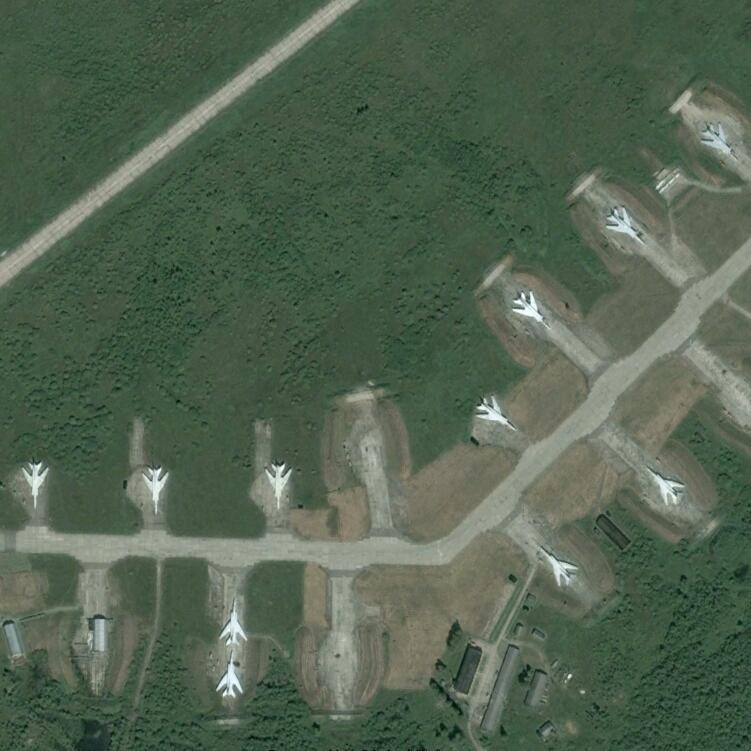A12: (605, 205, 647, 248), (644, 463, 686, 505), (538, 544, 579, 586), (217, 596, 250, 648), (474, 393, 518, 432), (511, 288, 551, 330), (700, 120, 740, 162), (141, 464, 171, 516), (215, 648, 245, 698), (264, 462, 294, 511), (21, 461, 49, 511)
